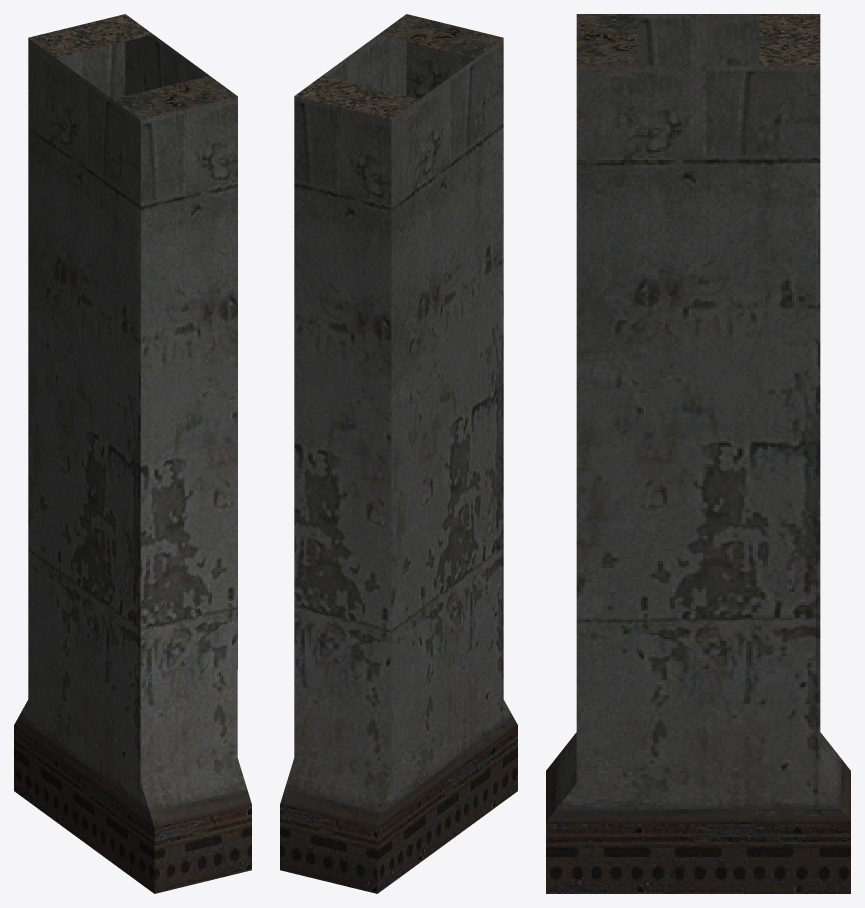
Rendered from pillar_rtx_2.glb.
The picture shows the model from 3 angles, left to right: view 1: azimuth 30°, elevation 25°; view 2: azimuth 150°, elevation 25°; view 3: azimuth 270°, elevation 25°; orthographic projection. The views are drawn at different scales.
Parts seen in each view (by area): view 1: pillar_rtx_2; view 2: pillar_rtx_2; view 3: pillar_rtx_2.
Boxes of the visible parts, bbox=[...] form: pillar_rtx_2: bbox=[14, 14, 251, 893]; pillar_rtx_2: bbox=[280, 14, 517, 893]; pillar_rtx_2: bbox=[546, 14, 850, 893].
Size of the model in its own units: 0.4 by 3 by 1.
2 materials, 2 textured.
